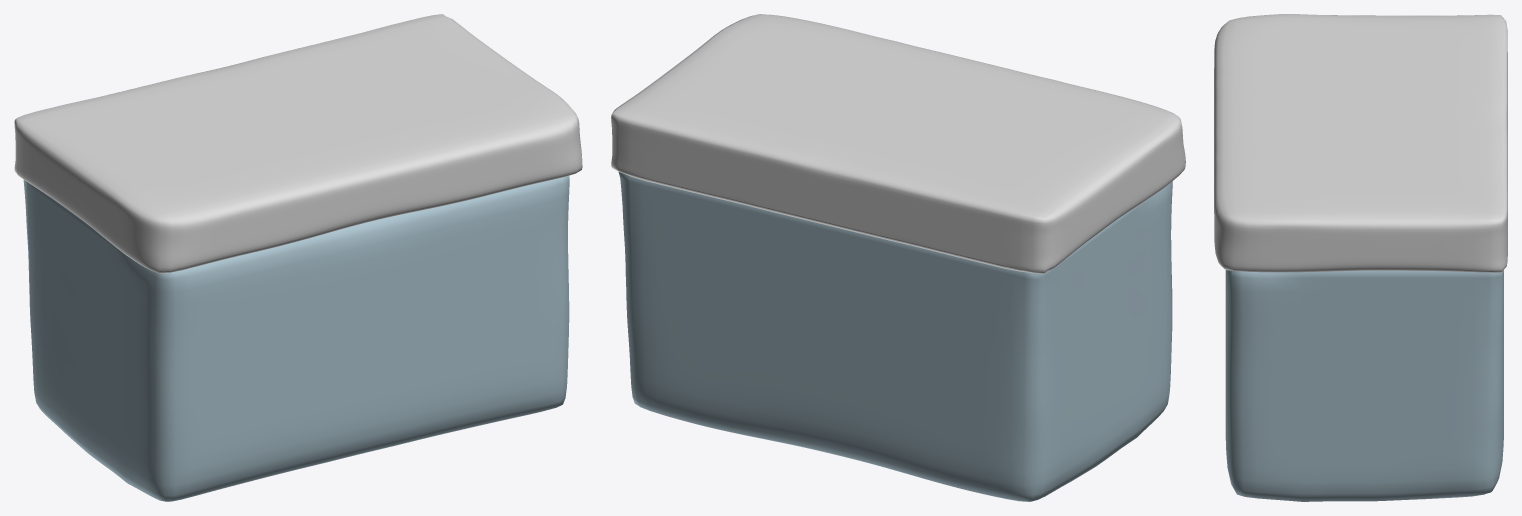
Rendered from ToyBox.fbx.
3 renders of one model, left to right at view 1: azimuth 30°, elevation 25°; view 2: azimuth 150°, elevation 25°; view 3: azimuth 270°, elevation 25°, orthographic. The views are drawn at different scales.
Parts seen in each view (by area): view 1: Box, Box 1; view 2: Box, Box 1; view 3: Box 1, Box.
Boxes of the visible parts, <box> form: Box: <box>23,175,569,501</box>; Box 1: <box>14,14,582,273</box>; Box: <box>618,172,1172,501</box>; Box 1: <box>611,14,1185,273</box>; Box 1: <box>1214,14,1507,272</box>; Box: <box>1225,270,1503,501</box>.
Size of the model in its own units: 1 by 0.6545 by 0.5916.
